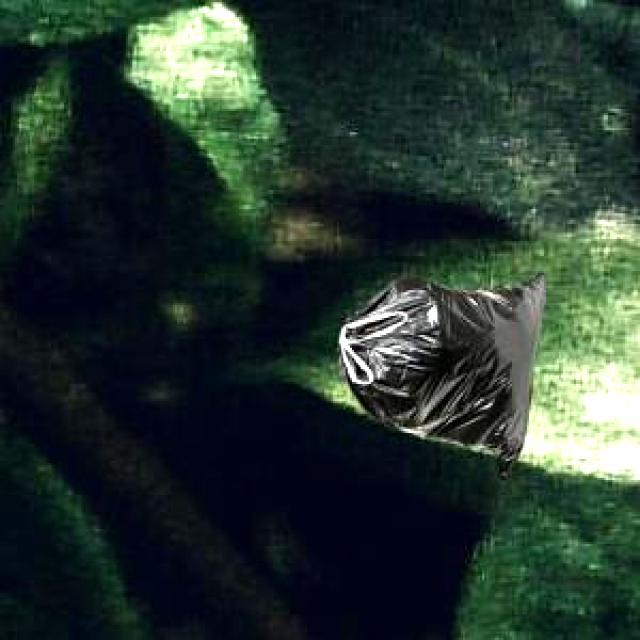Garbage_Bag: (334, 270, 543, 479)
